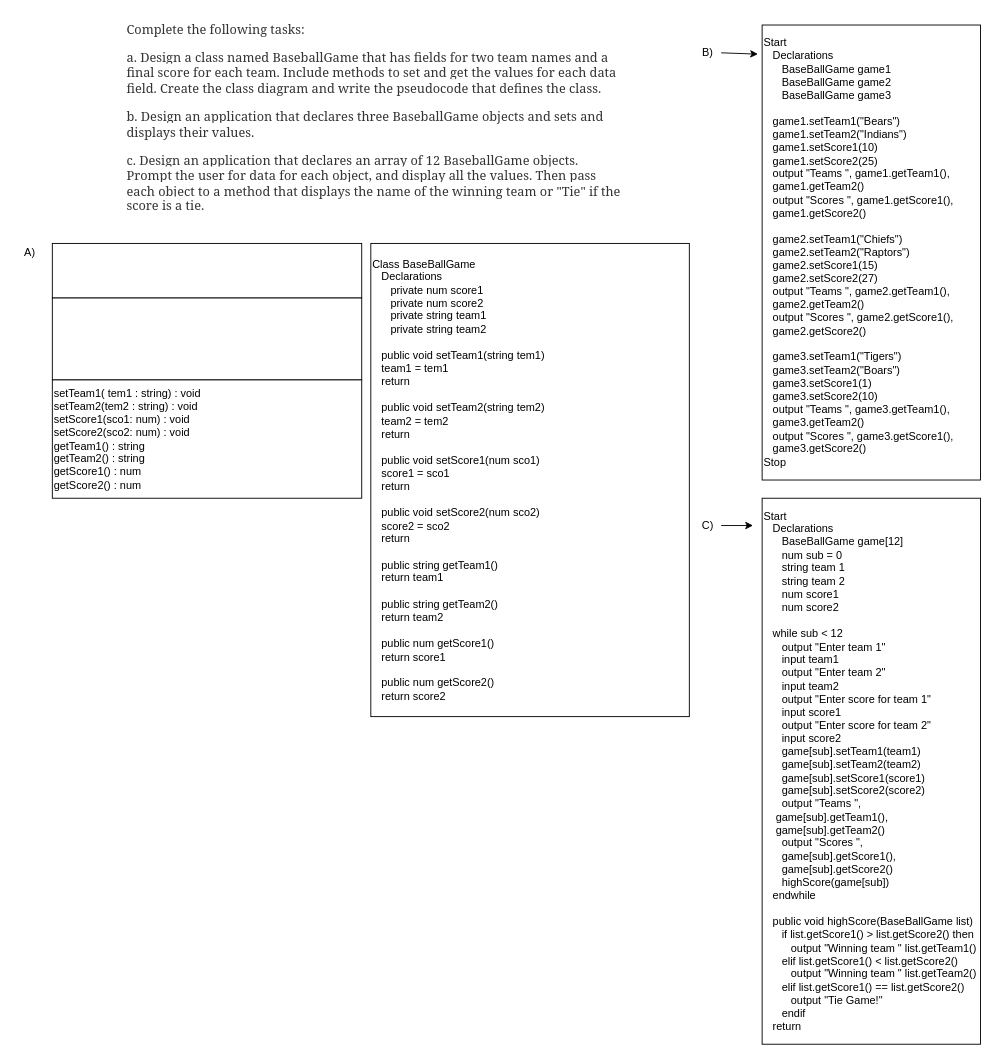
The diagram is 996 pixels wide and 1060 high, and some of its shapes have lost their labels. The box of each missing label's shape, as (x1, y1, x2, y2) in pixels:
BaseBallGame: (51, 243, 362, 298)
team1 : string team2 : string score1 : num score2 : num: (51, 297, 362, 380)
